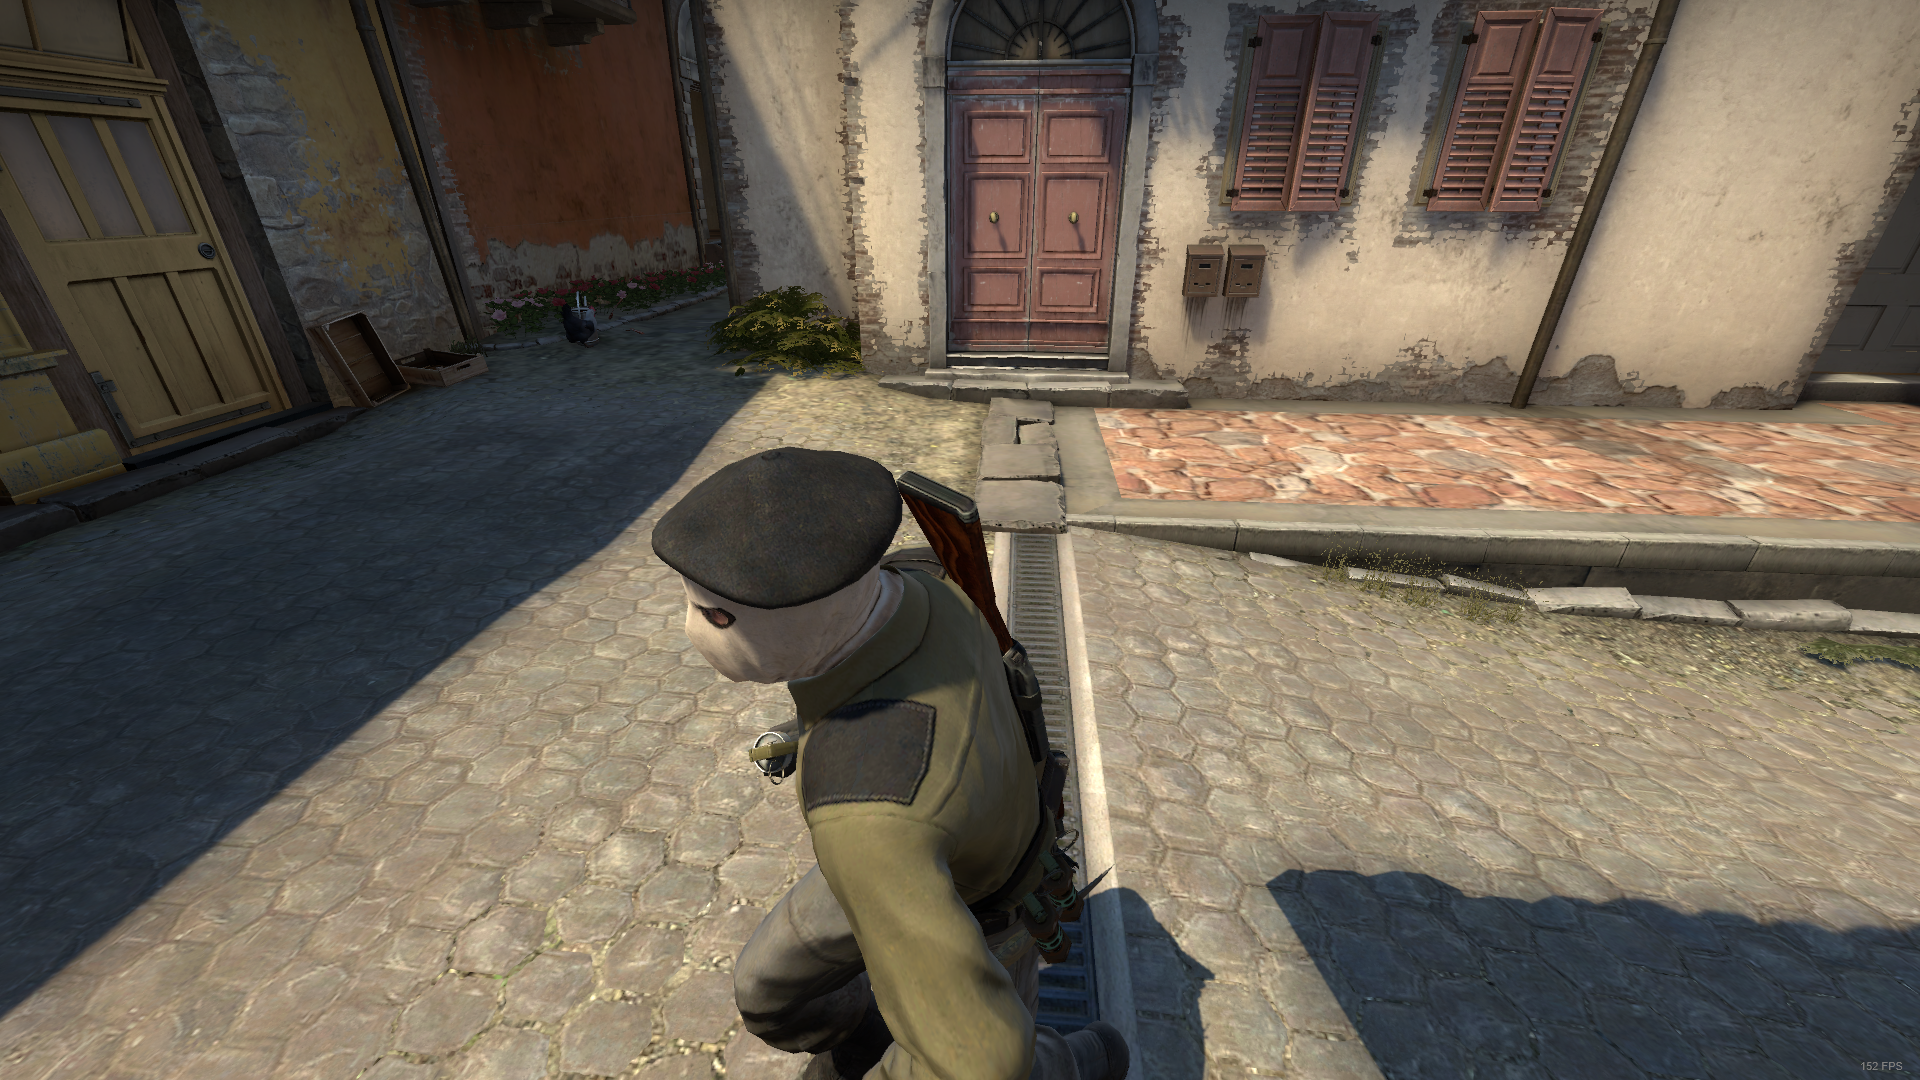t: (654, 446, 1129, 1080)
